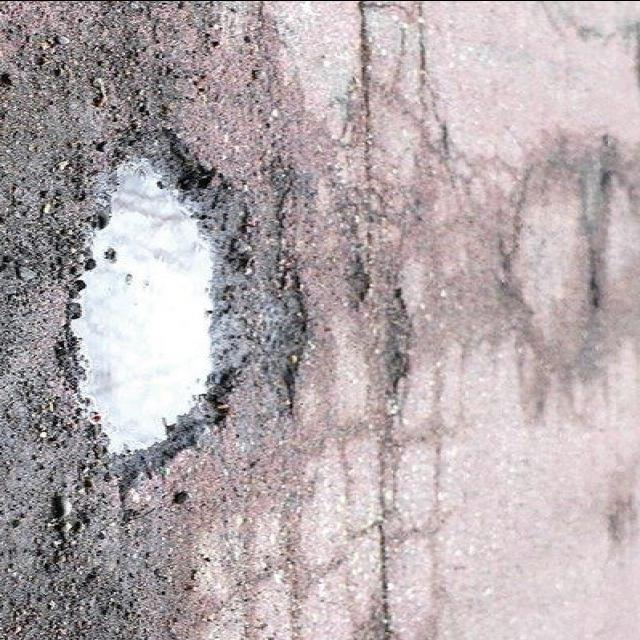jalan retak: (331, 1, 425, 225), (484, 135, 574, 367), (235, 0, 297, 148), (365, 402, 425, 518), (364, 513, 409, 640), (419, 117, 481, 201)
lubang: (53, 123, 247, 477), (1, 3, 232, 134), (235, 144, 320, 440), (560, 126, 634, 364), (367, 284, 425, 402), (334, 242, 378, 310)
